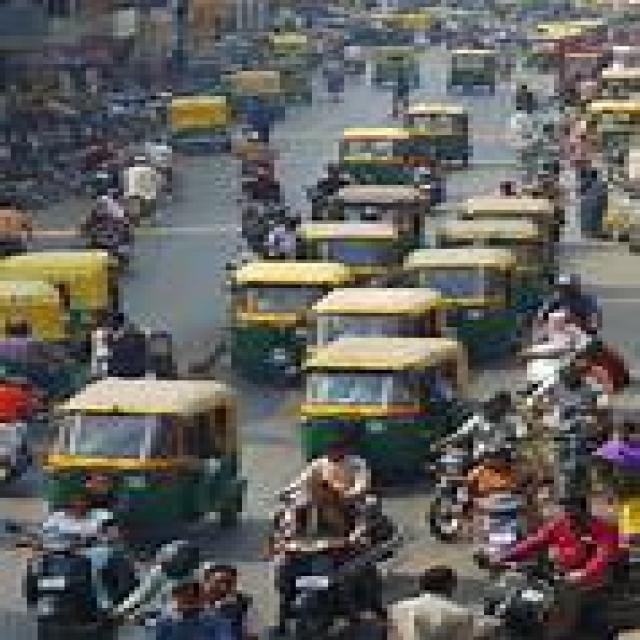Auto: (231, 102, 556, 484), (45, 380, 233, 522), (0, 249, 112, 341), (170, 70, 285, 153)
Two Wheeler: (30, 552, 100, 639)
